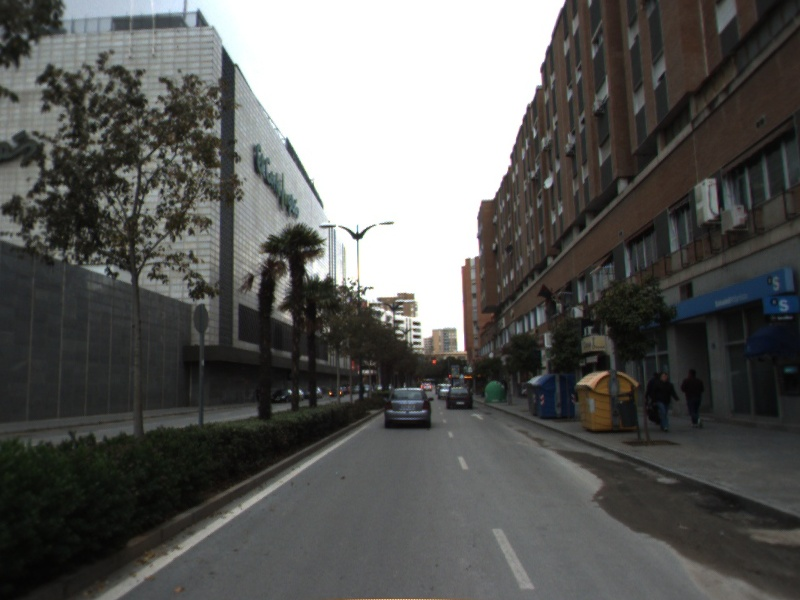STRAIGHT: (469, 411, 486, 422)
